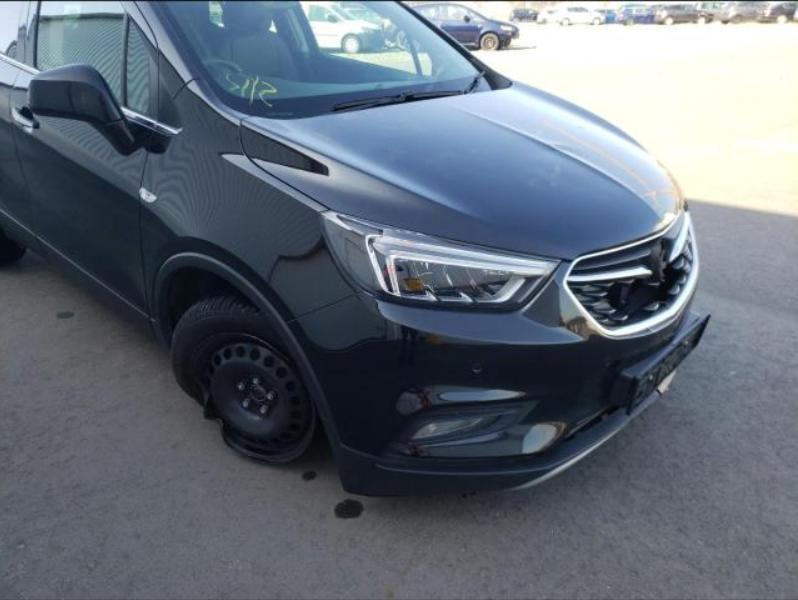Broken part: (169, 294, 316, 461), (562, 199, 699, 340), (264, 238, 328, 290)
Missing part: (629, 314, 709, 415)
